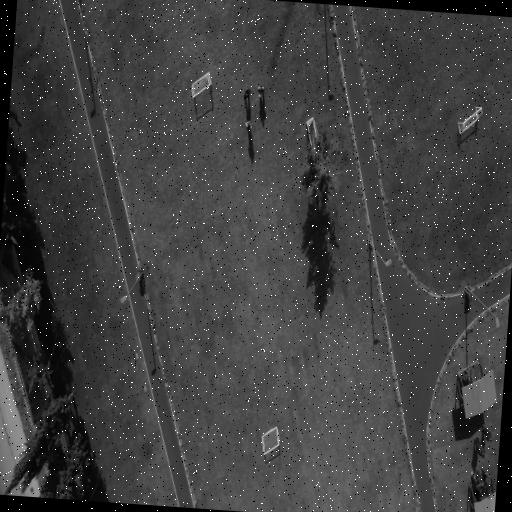person: (471, 471, 481, 495), (482, 470, 492, 490), (476, 436, 485, 457), (462, 369, 472, 386), (482, 424, 492, 441), (244, 88, 250, 102), (245, 120, 252, 130), (258, 86, 264, 96)
